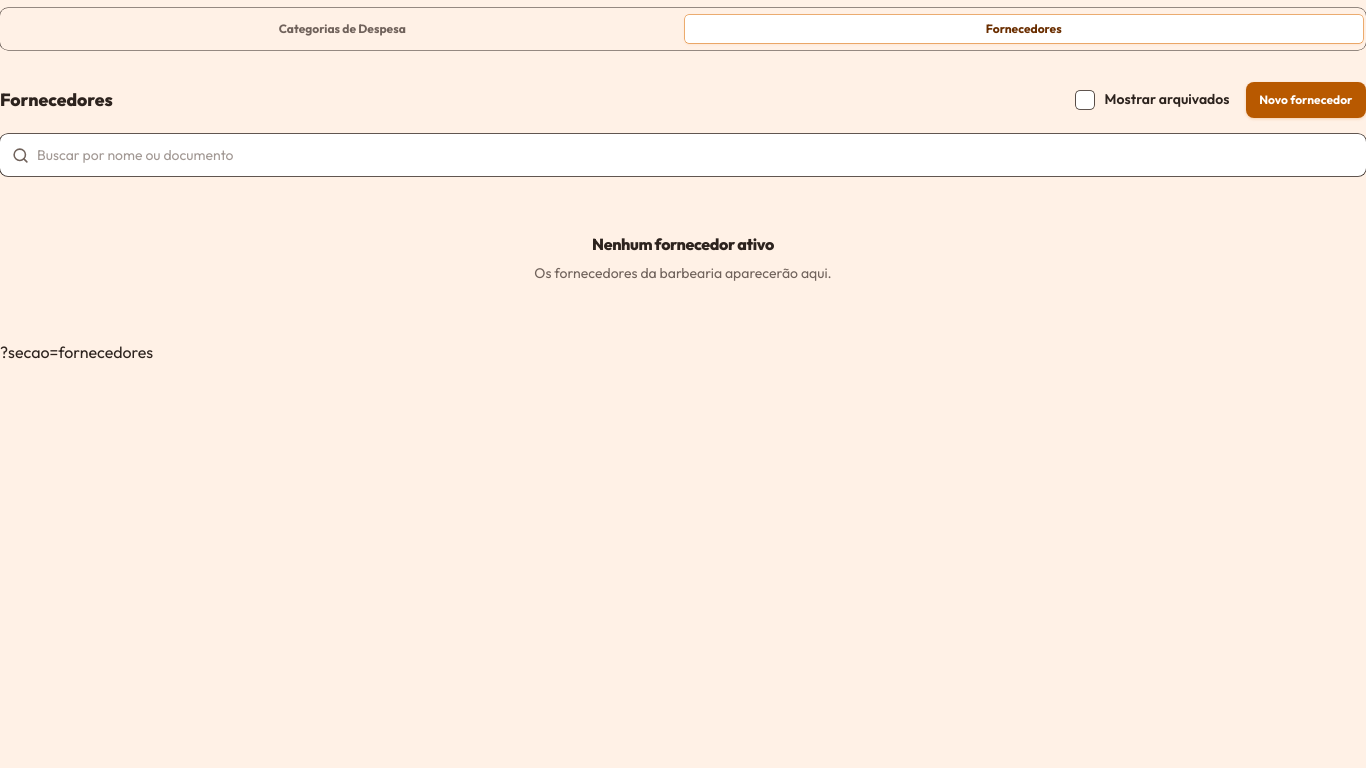
Test: PlanoContasTab (adaptador em memória) › colide com fornecedor arquivado ao criar e oferece reativar ali mesmo
Expected: the heading "Nenhum fornecedor ativo" is shown, [592,232,774,256]
Click the button "Novo fornecedor". click: (1306, 100)
box: [1246,82,1365,118]
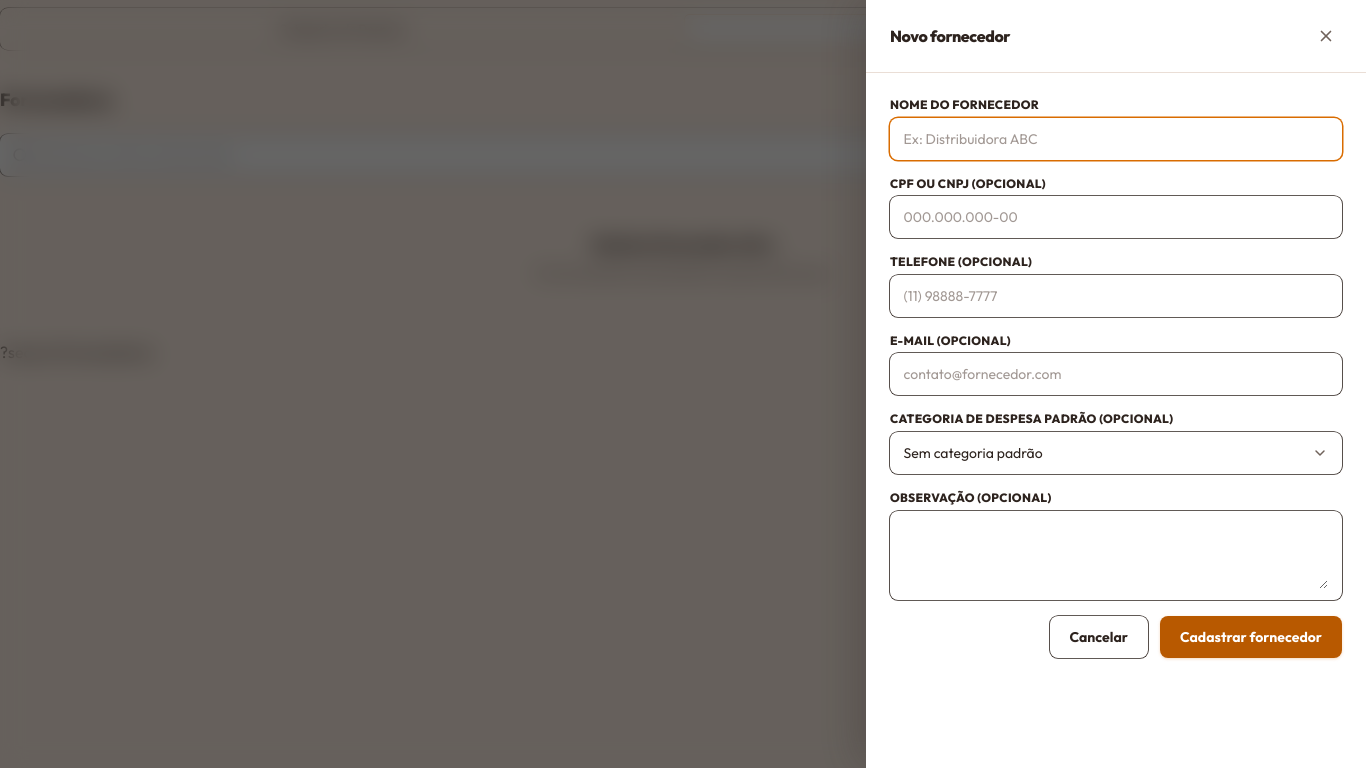
Type "antigo fornecedor" into the field labelled "Nome do fornecedor". click: (1116, 139)
box: [904,121,1328,157]
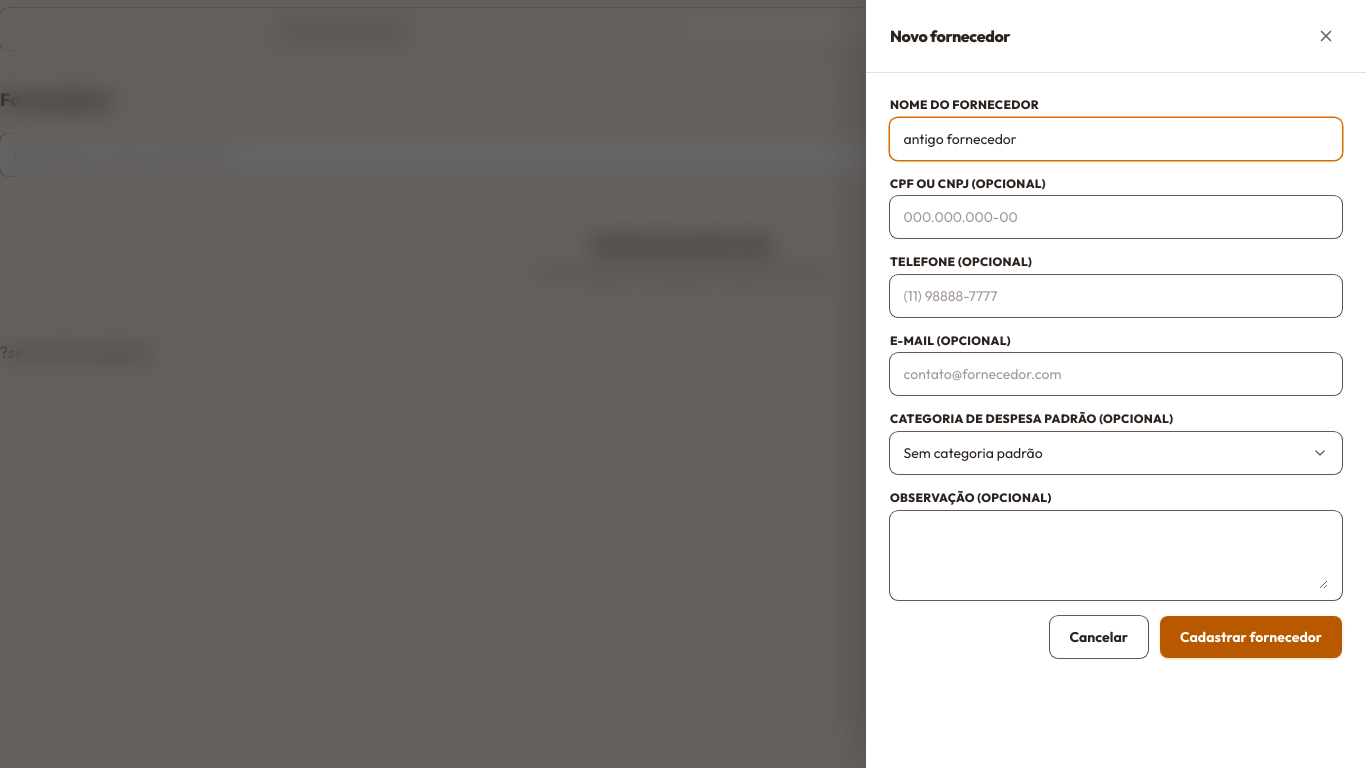
Click the button "Cadastrar fornecedor". click: (1251, 637)
box: [1160,616,1342,658]
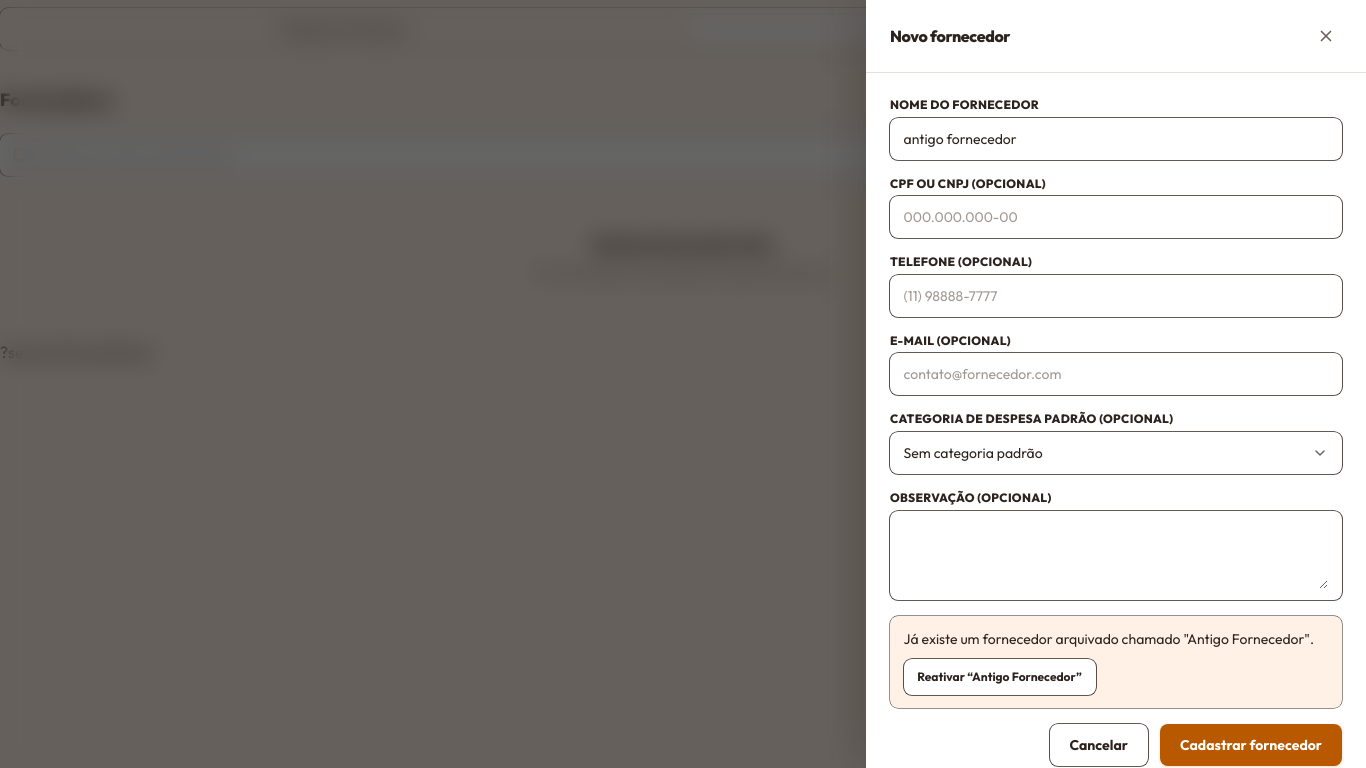
Click the button "Reativar “Antigo Fornecedor”". click: (1000, 677)
box: [904,659,1096,695]
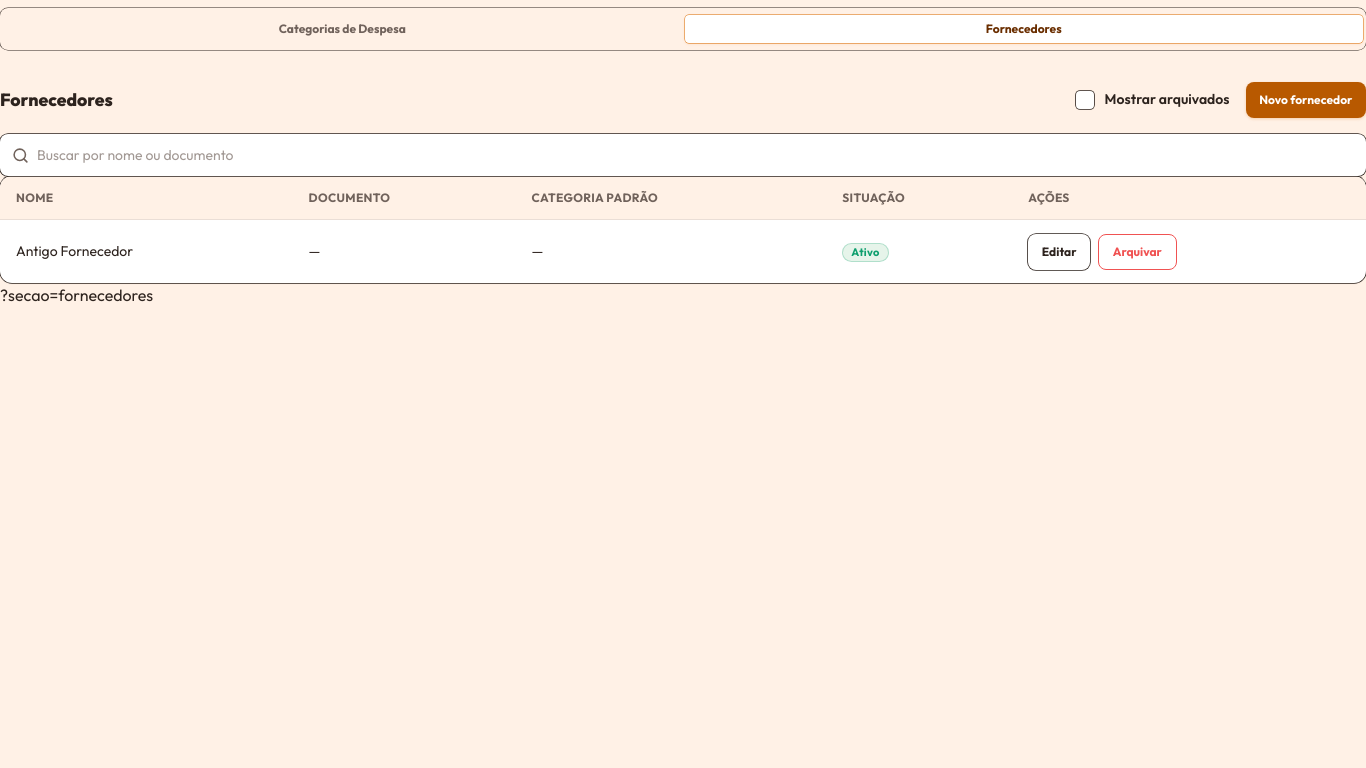
Expected: the text "Ativo" is shown, [851,247,880,258]
Expected: the text "Antigo Fornecedor" is shown, [0,220,293,283]
Expected: the label labelled "Nome do fornecedor" is gone
